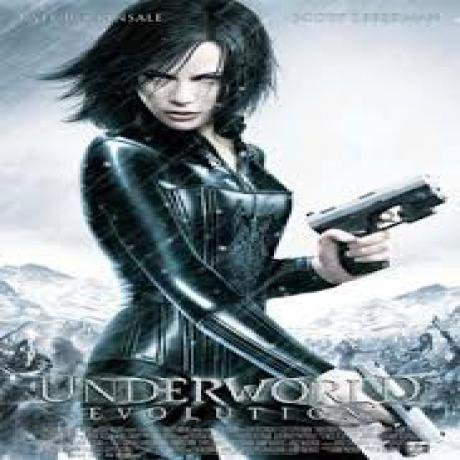Guns: (309, 171, 440, 257), (346, 357, 445, 450)
